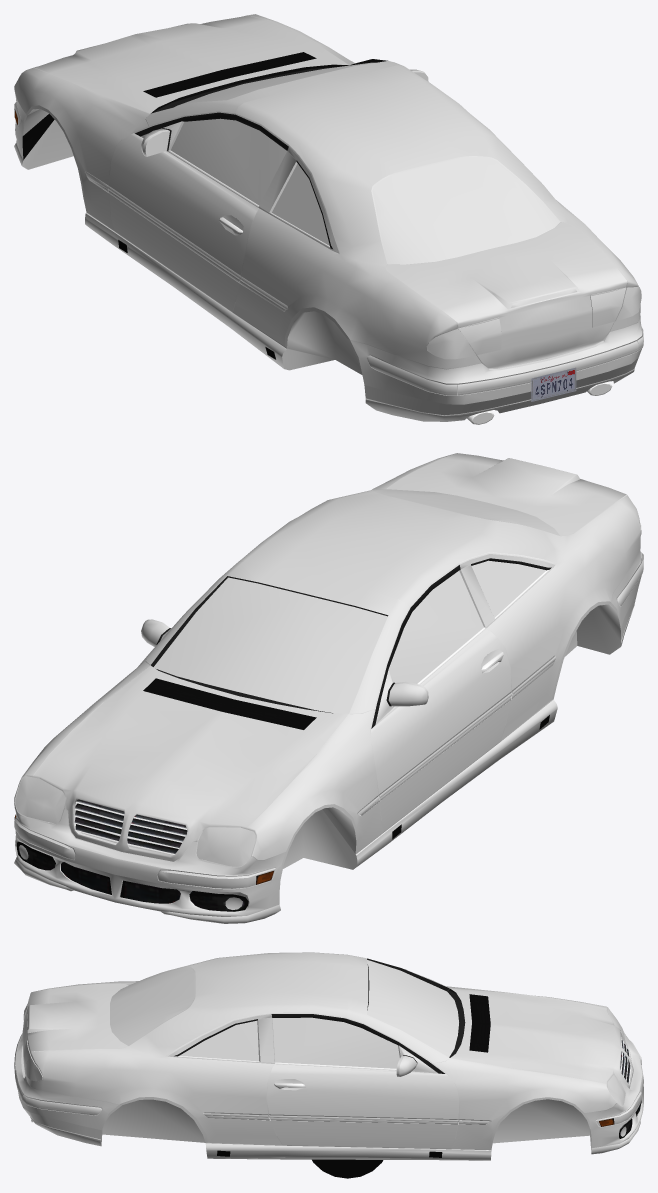
Rendered from MCLA_VA_MBZ_CL500_04.glb.
3 views of the same model, one above another, from view 1: azimuth 30°, elevation 25°; view 2: azimuth 150°, elevation 25°; view 3: azimuth 270°, elevation 25° (orthographic). The views are drawn at different scales.
Parts seen in each view (by area): view 1: va_mbz_cl500_04/resources/vehicle/va_mbz_cl500_04/body_lod_0; view 2: va_mbz_cl500_04/resources/vehicle/va_mbz_cl500_04/body_lod_0; view 3: va_mbz_cl500_04/resources/vehicle/va_mbz_cl500_04/body_lod_0.
Boxes of the visible parts, x1,y1,x2,y2 form: va_mbz_cl500_04/resources/vehicle/va_mbz_cl500_04/body_lod_0: [14, 14, 643, 424]; va_mbz_cl500_04/resources/vehicle/va_mbz_cl500_04/body_lod_0: [14, 453, 643, 923]; va_mbz_cl500_04/resources/vehicle/va_mbz_cl500_04/body_lod_0: [14, 952, 643, 1178].
Size of the model in its own units: 1.9 by 1.73 by 5.07.
11 materials, 7 textured.
